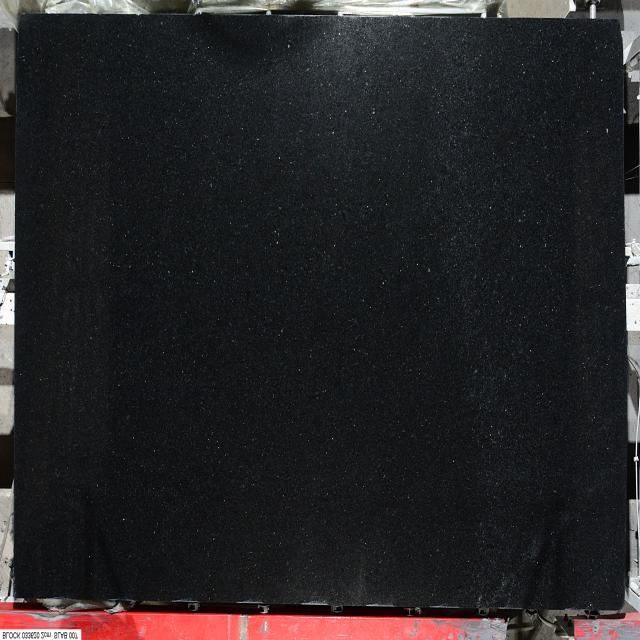chapa: (15, 14, 626, 610)
